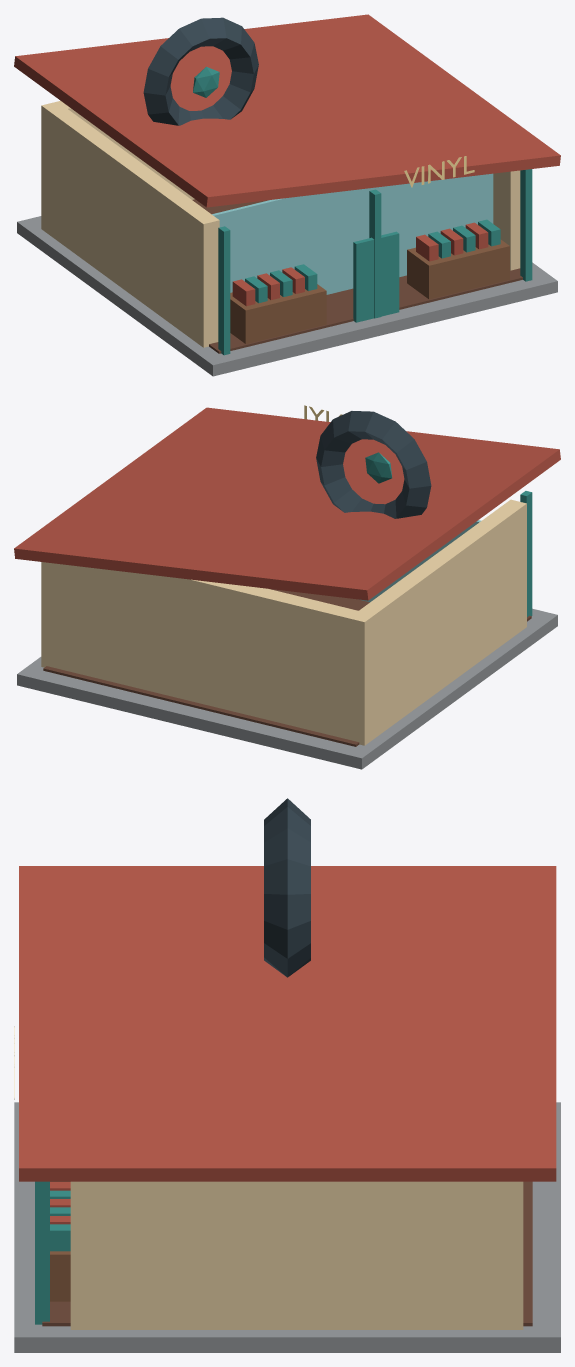
Rendered from storefront_records.glb.
3 renders of one model, top to bottom at view 1: azimuth 30°, elevation 25°; view 2: azimuth 150°, elevation 25°; view 3: azimuth 270°, elevation 25°, orthographic. The views are drawn at different scales.
Visible parts, largest first — view 1: slanted_roof, side_wall, window_back, foundation, rooftop_vinyl, record_bin.001, record_bin, door, floor, side_wall.001, rear_wall, front_post (+6 smaller); view 2: slanted_roof, rear_wall, side_wall, foundation, rooftop_vinyl, floor, front_post, record_label; view 3: slanted_roof, side_wall.001, foundation, rooftop_vinyl, rear_wall, front_post.002, floor, record_bin.001.
Boxes of the visible parts, bbox=[...] form: slanted_roof: bbox=[14, 14, 560, 207]; side_wall: bbox=[48, 109, 219, 347]; window_back: bbox=[212, 173, 493, 294]; foundation: bbox=[17, 216, 557, 376]; rooftop_vinyl: bbox=[143, 17, 258, 125]; record_bin.001: bbox=[407, 239, 509, 299]; record_bin: bbox=[230, 284, 326, 343]; door: bbox=[353, 231, 399, 322]; floor: bbox=[192, 199, 522, 353]; side_wall.001: bbox=[493, 170, 520, 270]; rear_wall: bbox=[41, 101, 194, 235]; front_post: bbox=[218, 226, 230, 355]; slanted_roof: bbox=[14, 407, 560, 600]; rear_wall: bbox=[41, 562, 374, 745]; side_wall: bbox=[356, 499, 526, 737]; foundation: bbox=[17, 608, 557, 769]; rooftop_vinyl: bbox=[316, 411, 431, 518]; floor: bbox=[43, 589, 531, 746]; front_post: bbox=[520, 491, 532, 616]; record_label: bbox=[365, 452, 392, 483]; slanted_roof: bbox=[19, 866, 556, 1181]; side_wall.001: bbox=[70, 1181, 504, 1329]; foundation: bbox=[14, 1102, 560, 1352]; rooftop_vinyl: bbox=[264, 798, 310, 977]; rear_wall: bbox=[495, 1181, 523, 1329]; front_post.002: bbox=[35, 1181, 49, 1324]; floor: bbox=[42, 1181, 532, 1326]; record_bin.001: bbox=[50, 1251, 70, 1301].
Bounding box in the file's own units: 6.6 × 4.72 × 6.32.
